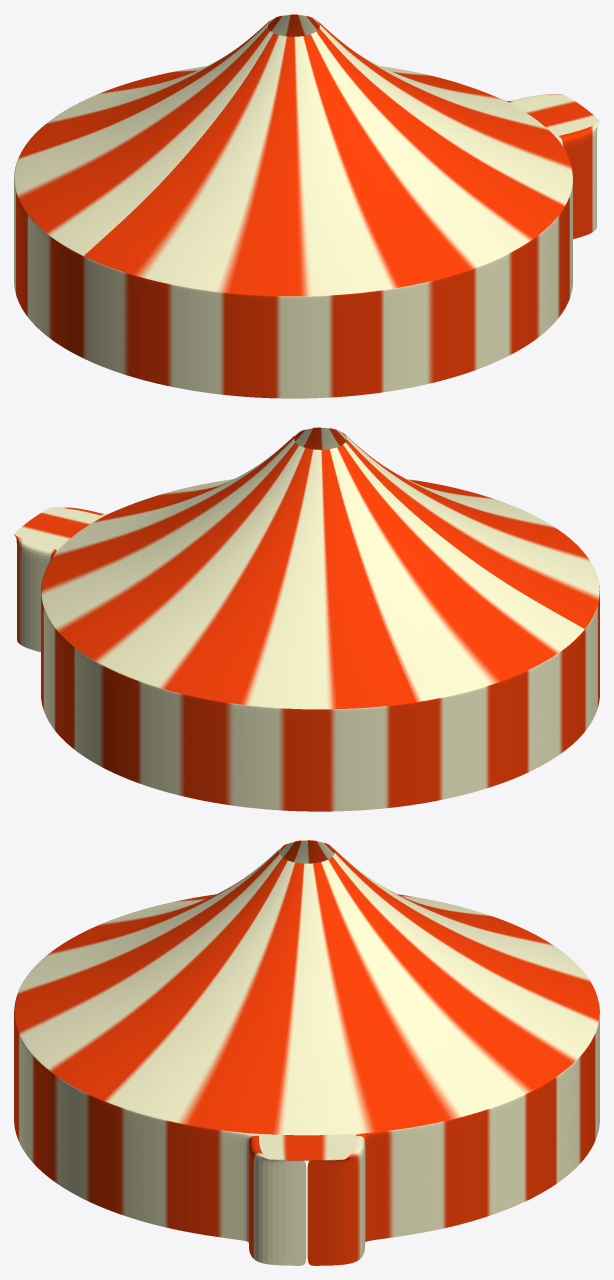
File: TentFabric.fbx
3 renders of one model, top to bottom at view 1: azimuth 30°, elevation 25°; view 2: azimuth 150°, elevation 25°; view 3: azimuth 270°, elevation 25°, orthographic. The views are drawn at different scales.
Parts seen in each view (by area): view 1: TentCanvas; view 2: TentCanvas; view 3: TentCanvas.
Boxes of the visible parts, box(x1,y1,x2,y2) form: TentCanvas: box(14, 14, 599, 398); TentCanvas: box(14, 427, 599, 811); TentCanvas: box(14, 840, 599, 1265).
Size of the model in its own units: 2189 by 1001 by 1991.
